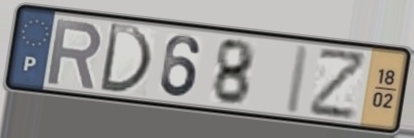6: (159, 33, 202, 99)
8: (210, 37, 259, 108)
D: (96, 20, 155, 97)
I: (281, 41, 314, 117)
R: (45, 16, 105, 92)
Z: (307, 48, 370, 122)
